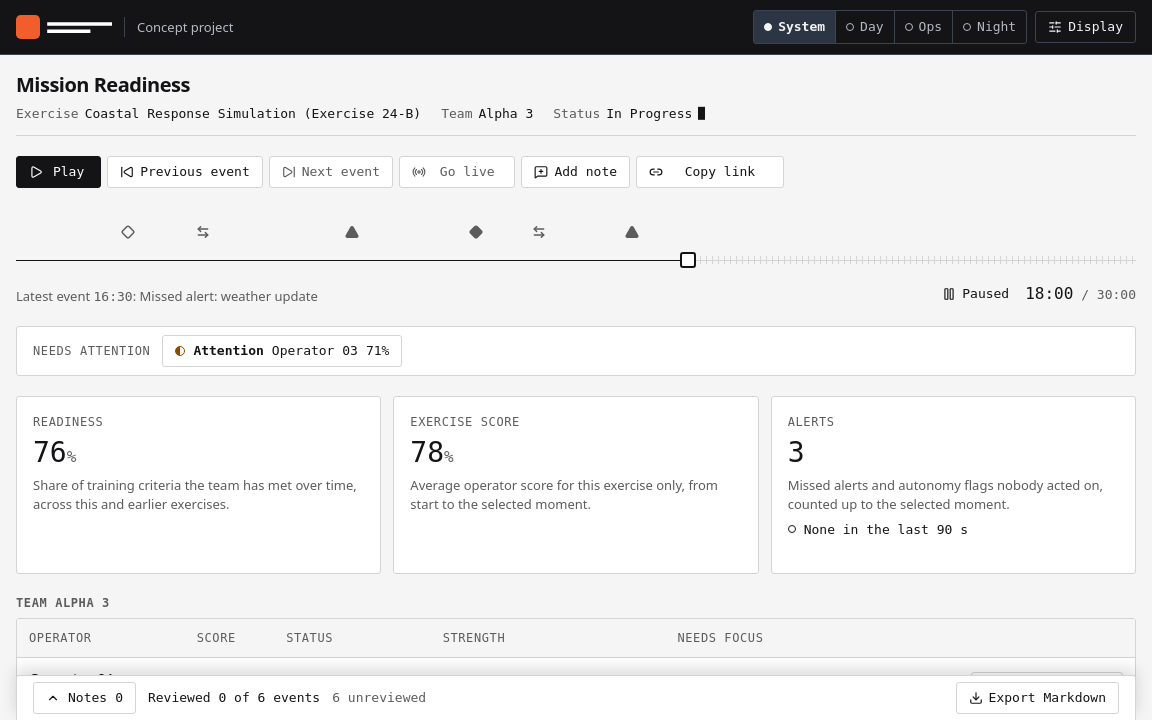
it: Mission Readiness overview › updates every panel when the clock moves
The image size is (1152, 720).
Expected: the text named "18 minutes elapsed" is shown, left=1025, top=284, right=1073, bottom=303
Expected: the slider named "Exercise timeline" holds "1080", left=682, top=254, right=694, bottom=266
Step 1. Click the button "Previous event" → {"x": 185, "y": 172}, box left=107, top=156, right=263, bottom=188
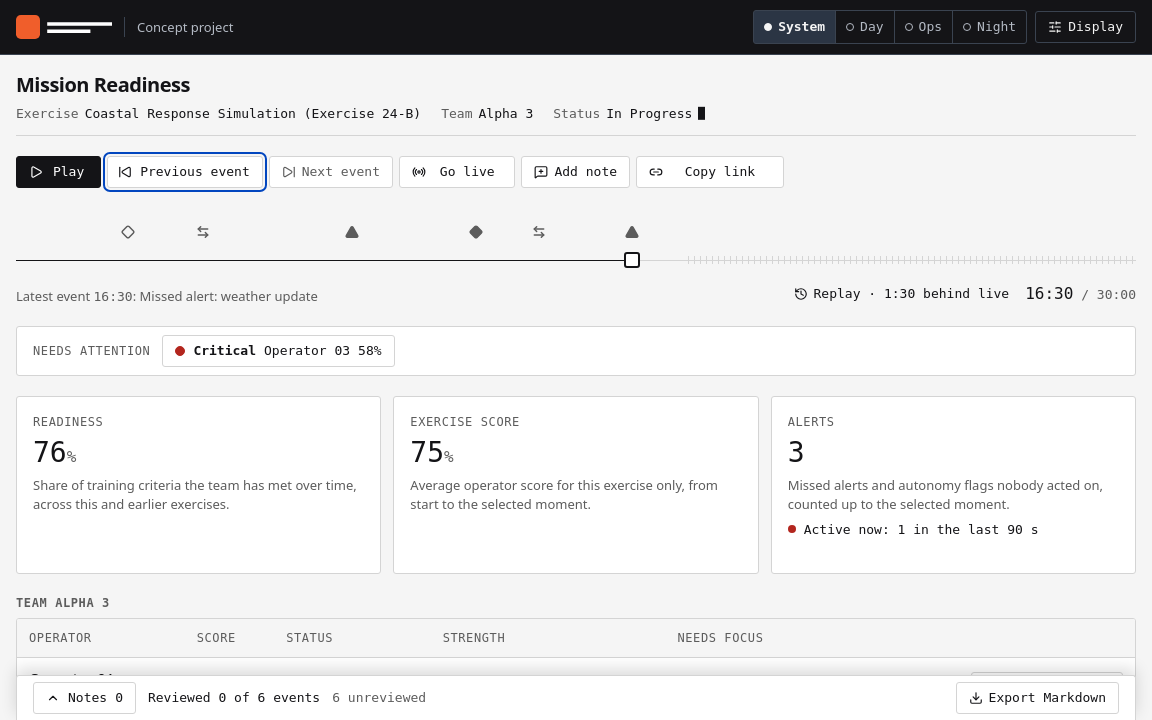
Now the text named "16 minutes 30 seconds elapsed" is shown, box left=1025, top=284, right=1073, bottom=303
Now the slider named "Exercise timeline" holds "990", box left=626, top=254, right=638, bottom=266
